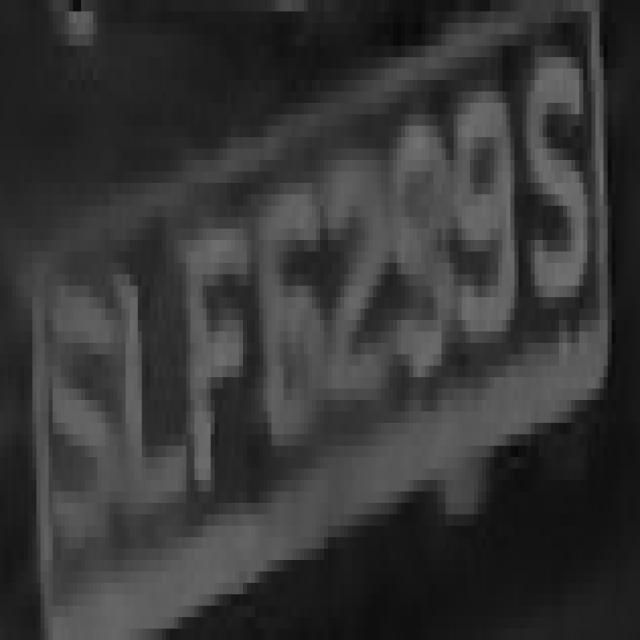2: (320, 114, 377, 434)
6: (255, 160, 320, 480)
9: (446, 69, 518, 412), (389, 91, 458, 400)
F: (186, 194, 251, 537)
L: (114, 229, 186, 537)
S: (526, 11, 596, 366), (48, 274, 125, 560)
